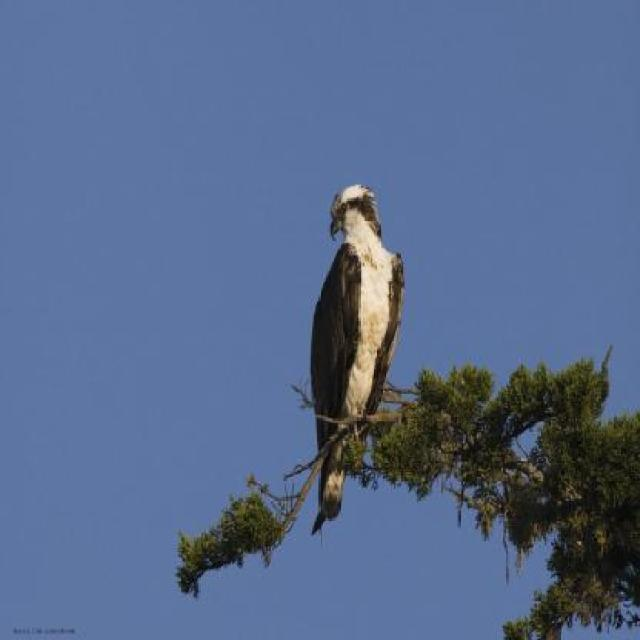Eagle: (301, 176, 410, 532)
